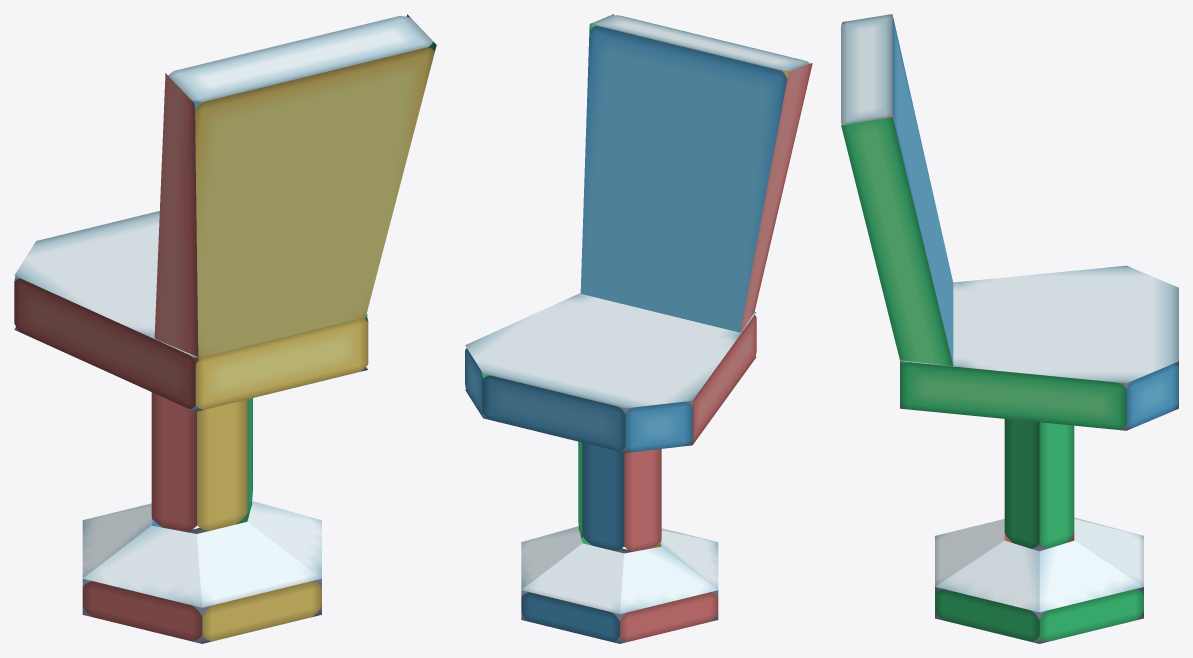
The model's file is chair_living.obj.
3 views of the same model, side by side, from view 1: azimuth 30°, elevation 25°; view 2: azimuth 150°, elevation 25°; view 3: azimuth 270°, elevation 25° (orthographic). The views are drawn at different scales.
Visible parts, largest first — view 1: cuboid, leg, seat; view 2: cuboid, seat, leg; view 3: seat, leg, cuboid.
Boxes of the visible parts, x1,y1,x2,y2 form: cuboid: [154, 14, 436, 363]; leg: [82, 392, 321, 643]; seat: [14, 211, 368, 411]; cuboid: [580, 14, 812, 332]; seat: [465, 293, 756, 452]; leg: [521, 441, 718, 643]; seat: [900, 265, 1178, 430]; leg: [935, 419, 1143, 643]; cuboid: [841, 14, 953, 365].
Bounding box in the file's own units: 0.5 × 1.04 × 0.6059.
Materials: 1 (1 with a texture image).
